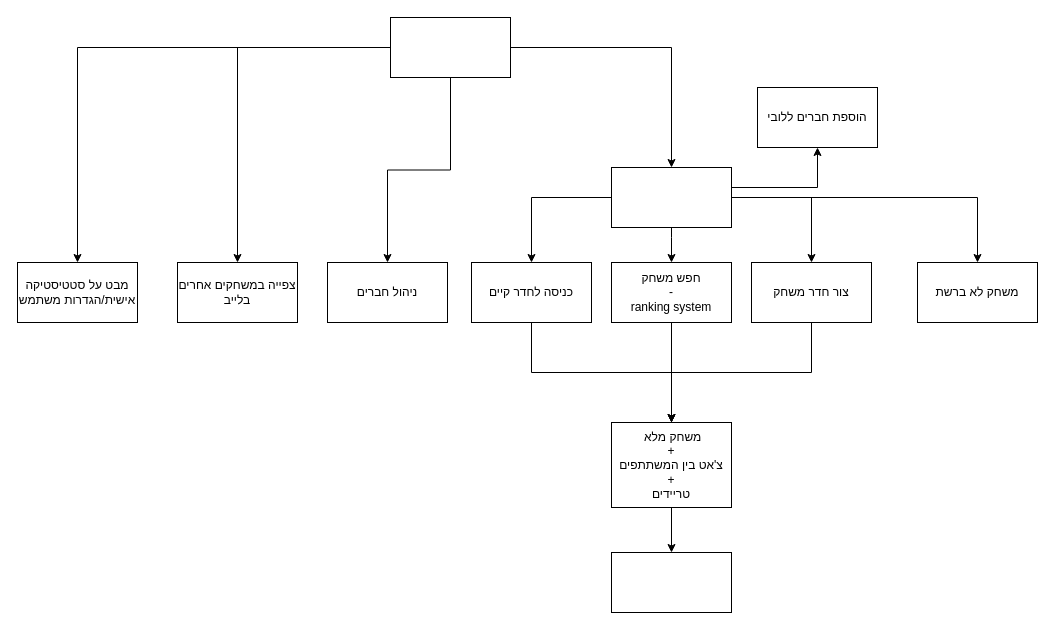
The diagram is 1055 pixels wide and 630 high, and some of its shapes have lost their labels. Here are the shapes that lost their labels. From the top down, the centre of each, then its label:
At (450,47): "מסך התחברות/הרשמה".
At (671,197): "לובי".
At (671,582): "חזרה ללובי".
